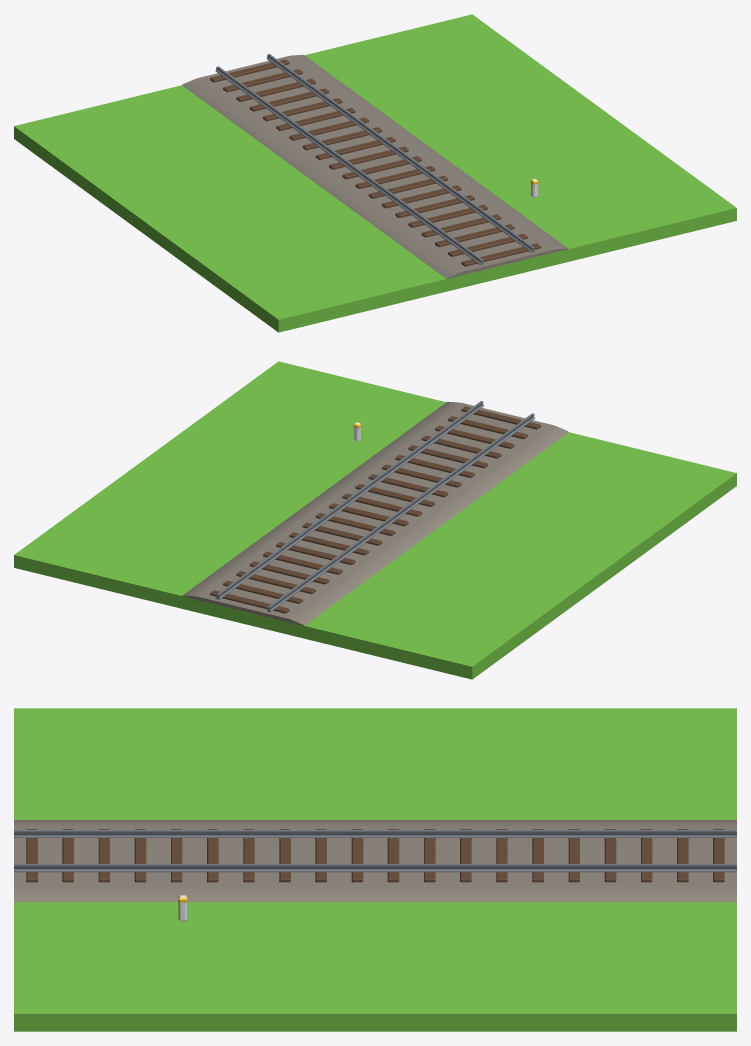
Rendered from trilho_reto.glb.
The picture shows the model from 3 angles, top to bottom: view 1: azimuth 30°, elevation 25°; view 2: azimuth 150°, elevation 25°; view 3: azimuth 270°, elevation 25°; orthographic projection. The views are drawn at different scales.
Parts seen in each view (by area): view 1: trilho_reto; view 2: trilho_reto; view 3: trilho_reto.
Part boxes in pixels (<box>): trilho_reto: <box>14,14,736,332</box>; trilho_reto: <box>14,361,736,679</box>; trilho_reto: <box>14,708,736,1031</box>.
Bounding box in the file's own units: 15 × 0.95 × 15.
1 material, 1 textured.
